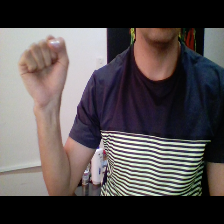9D: (16, 29, 76, 105)
